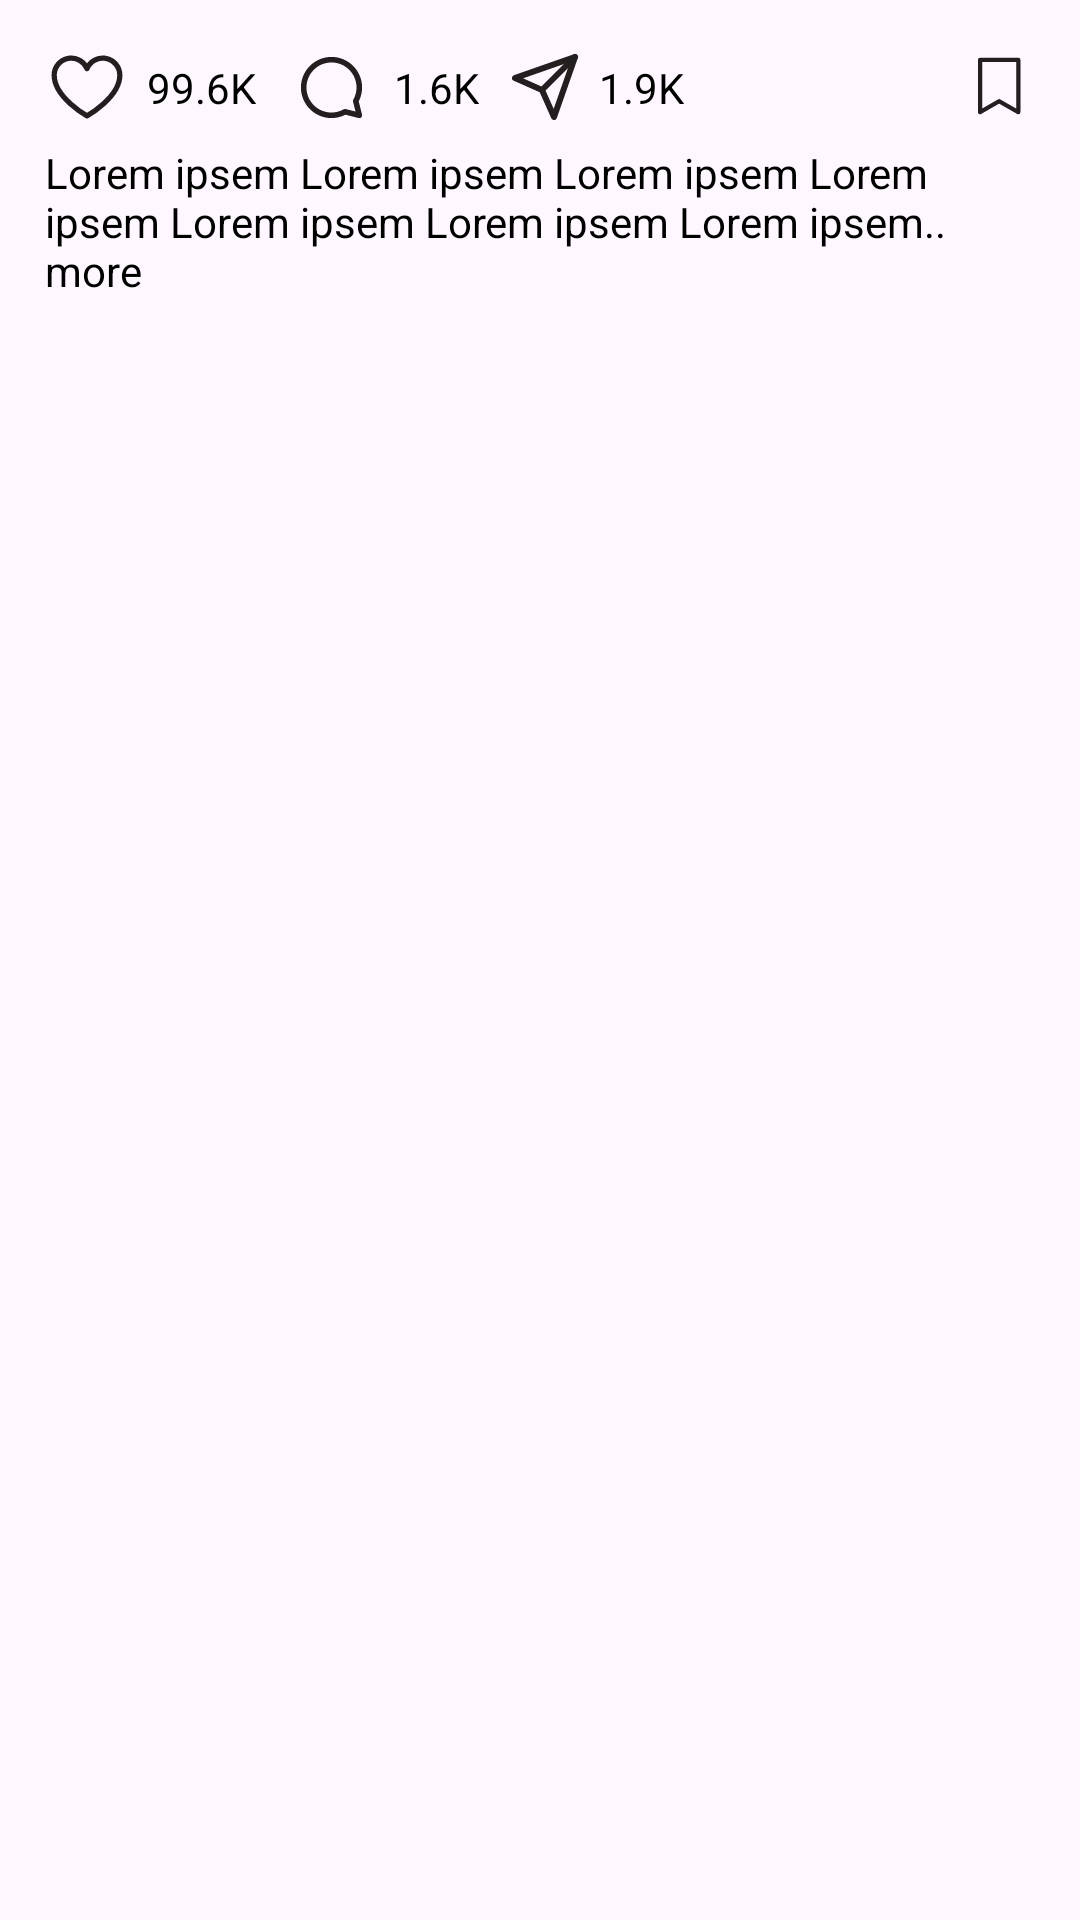

Locate icon controls on the screen. Image size 1080w x 1920h, boxes as (x1, y1, x2, y2).
bookmark: (978, 57, 1021, 115)
comment: (301, 57, 362, 118)
heart: (51, 55, 123, 119)
send: (512, 54, 578, 120)
